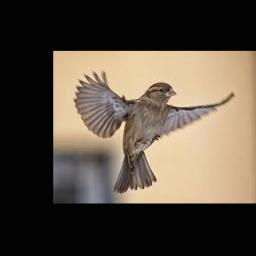Sparrow: (74, 70, 234, 193)
